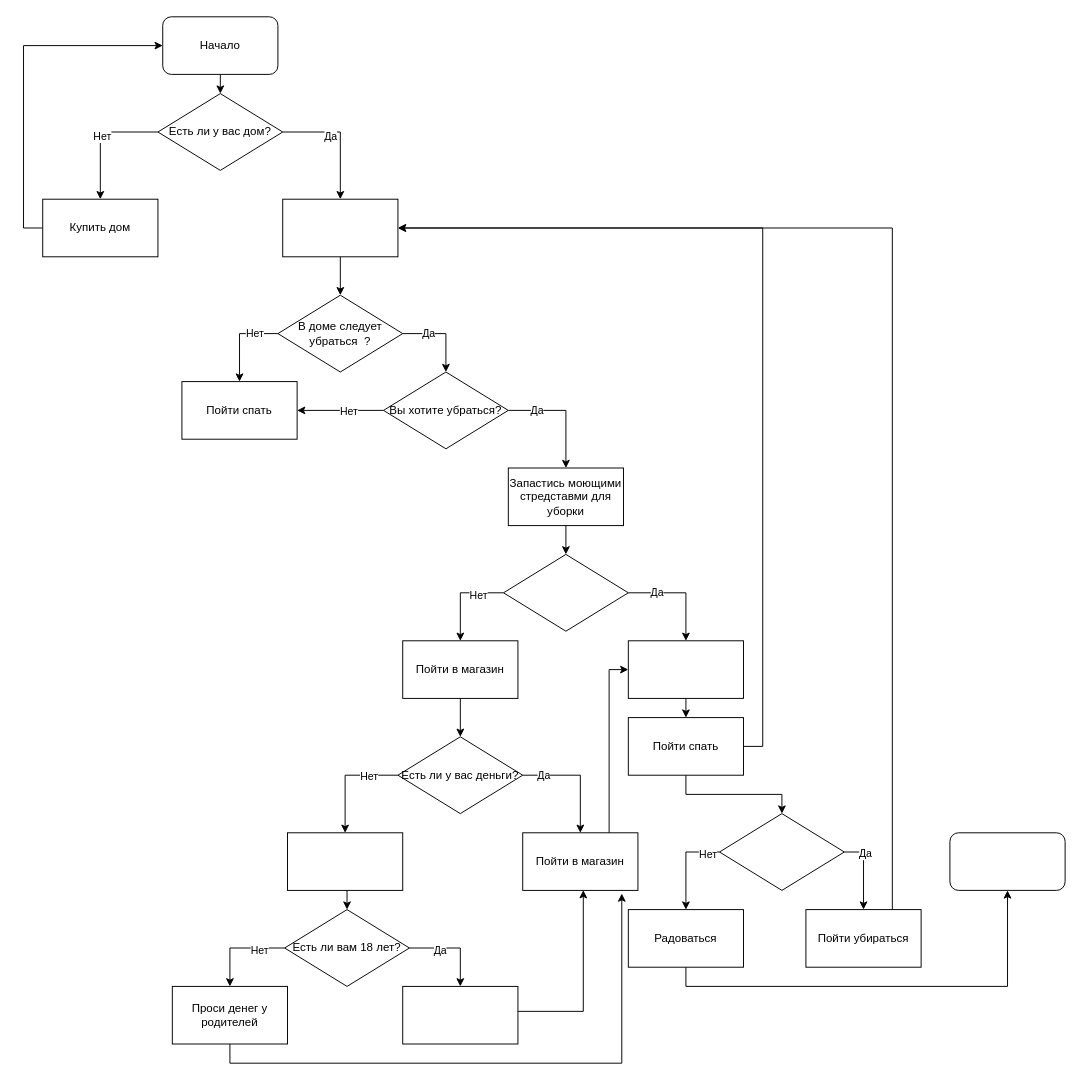
The diagram is 1082 pixels wide and 1088 high, and some of its shapes have lost their labels. The centre of each missing label's shape, as x and y in pixels:
Грязно дома?: point 781,851
Есть ли у вас моющие средства?: point 565,592
Заработать денег: point 460,1014
Конец: point 1007,861
Осмотреть дом: point 340,227
Пойти на работу: point 345,861
убраться: point 685,669
